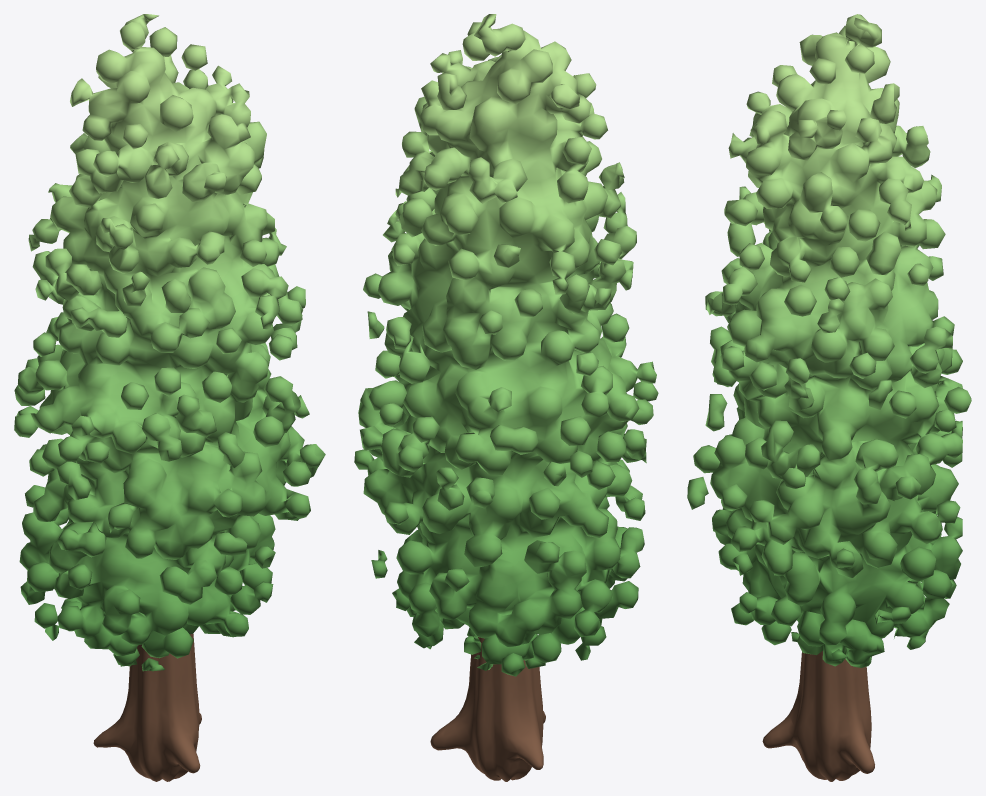
File: poplar_roblox.glb
3 renders of one model, left to right at view 1: azimuth 30°, elevation 25°; view 2: azimuth 150°, elevation 25°; view 3: azimuth 270°, elevation 25°, orthographic. The views are drawn at different scales.
Visible parts, largest first — view 1: Poplar_Column, Poplar_Trunk; view 2: Poplar_Column, Poplar_Trunk; view 3: Poplar_Column, Poplar_Trunk.
Boxes of the visible parts, <box> form: Poplar_Column: <box>14,14,325,671</box>; Poplar_Trunk: <box>93,634,201,781</box>; Poplar_Column: <box>354,14,658,676</box>; Poplar_Trunk: <box>430,637,545,781</box>; Poplar_Column: <box>687,14,971,667</box>; Poplar_Trunk: <box>762,651,874,781</box>.
Size of the model in its own units: 1.44 by 3.91 by 1.33.
Materials: 2 (2 with a texture image).
